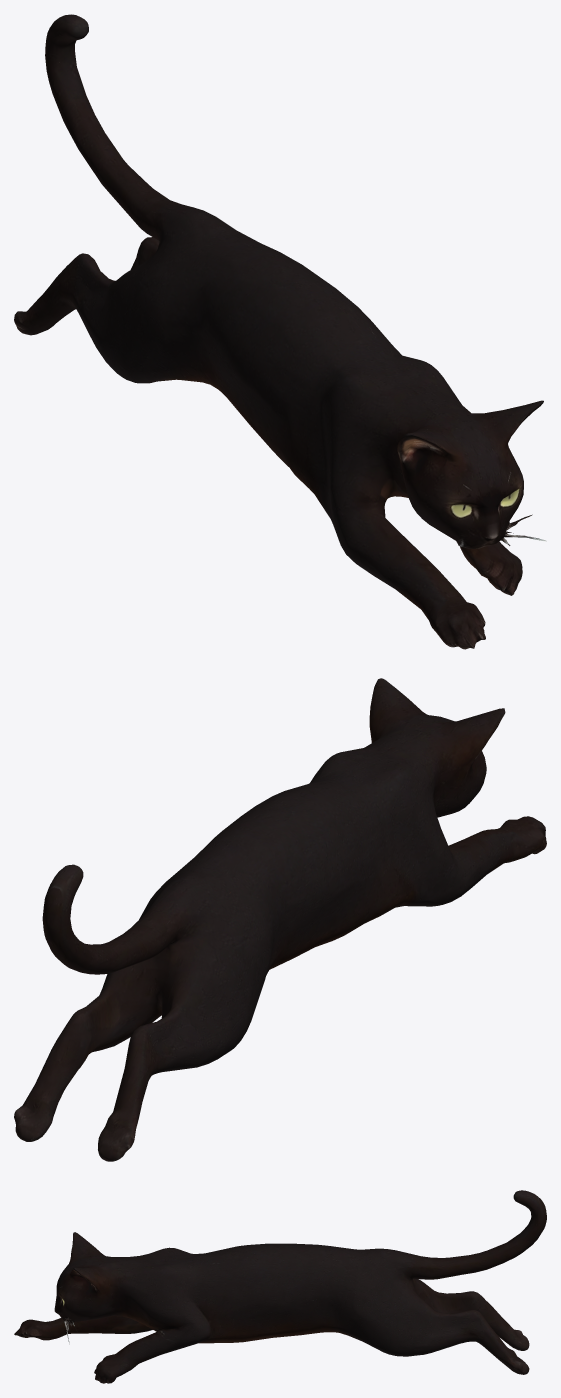
File: cat-3.glb
3 renders of one model, top to bottom at view 1: azimuth 30°, elevation 25°; view 2: azimuth 150°, elevation 25°; view 3: azimuth 270°, elevation 25°, orthographic. The views are drawn at different scales.
Size of the model in its own units: 0.3575 by 0.6916 by 1.9.
1 material, 1 textured.
